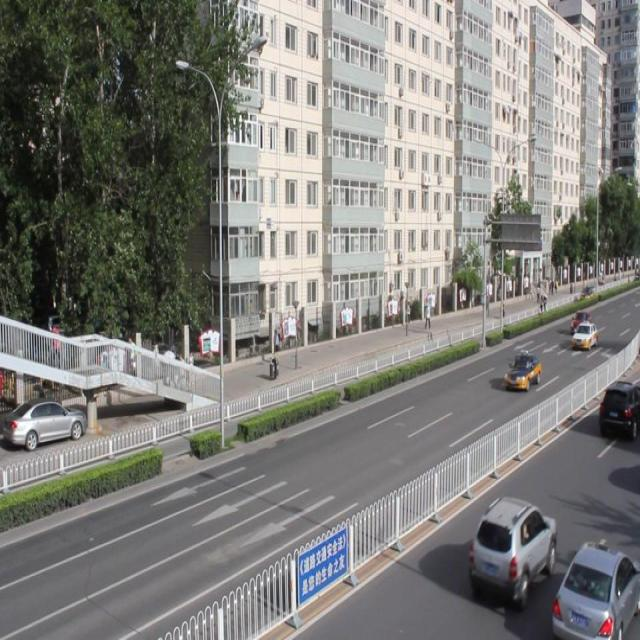car: (549, 541, 639, 640), (468, 497, 556, 597), (596, 379, 640, 439), (504, 350, 539, 391)
